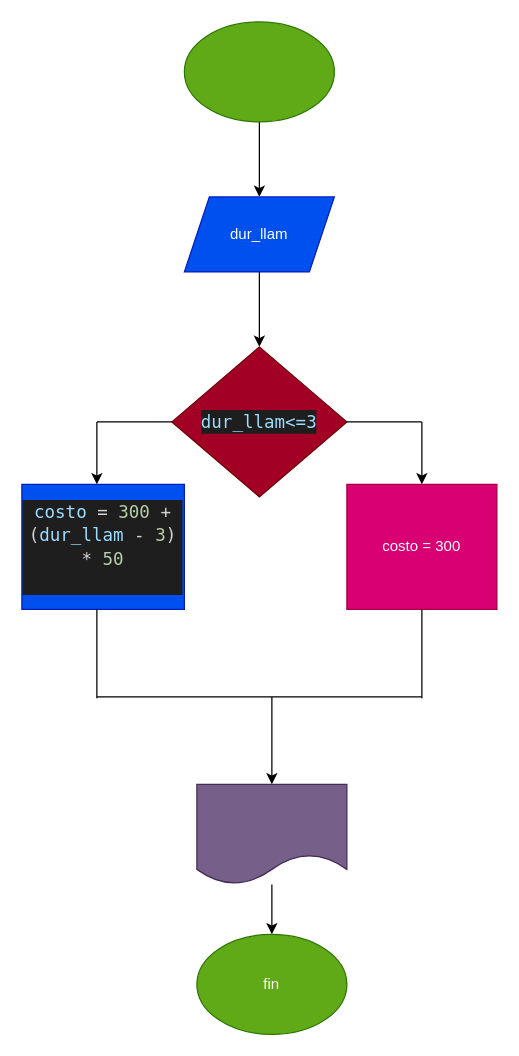
Some shapes in this 519 by 1056 pixel diagram are drawn without their labels. The centre of each missing label's shape, as x and y in pixels:
"costo" belongs at pixel 271 833.
"inicio" belongs at pixel 258 71.
